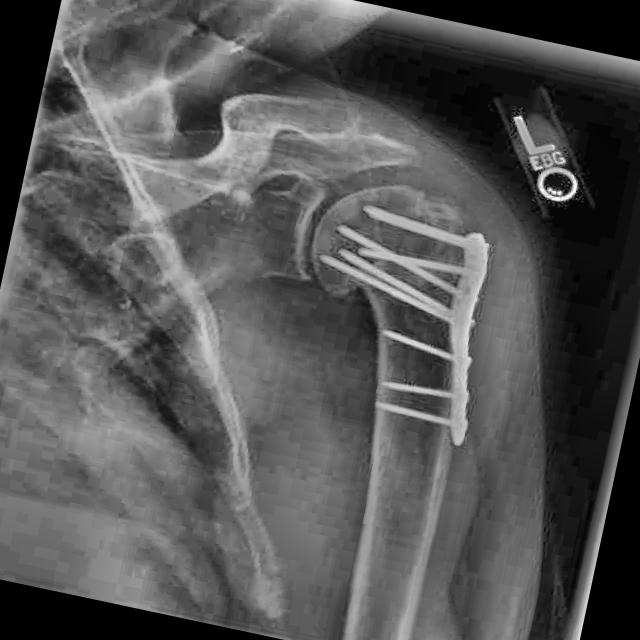shoulder fracture: (301, 171, 506, 335)
